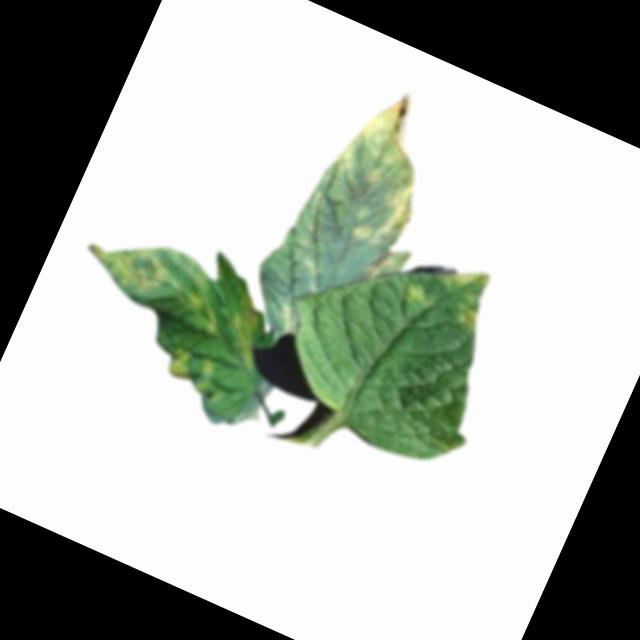Leaf_Mold: (328, 71, 434, 198), (74, 225, 177, 302), (215, 288, 279, 368), (158, 342, 234, 405), (435, 252, 495, 305), (377, 175, 426, 237), (345, 214, 377, 245), (400, 279, 431, 308), (453, 300, 483, 328)
